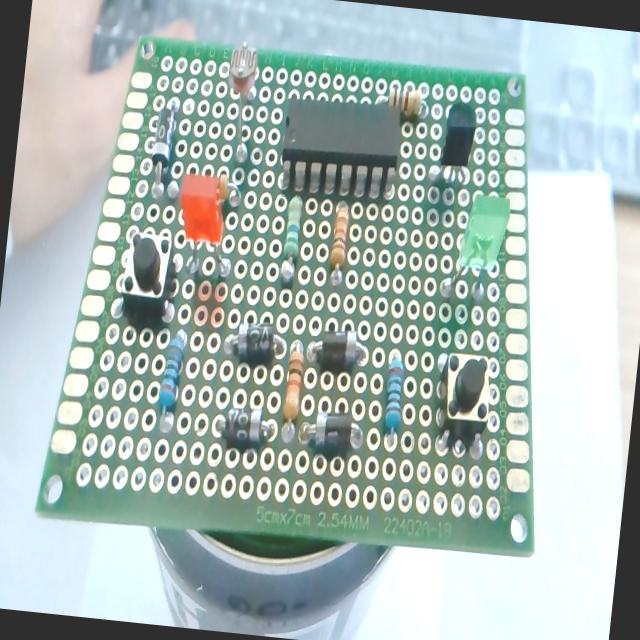IC: (274, 89, 404, 200)
cds: (219, 39, 262, 159)
diode: (148, 99, 184, 201), (222, 319, 288, 368), (306, 326, 370, 374), (300, 407, 364, 455), (216, 403, 276, 452)
led: (170, 166, 247, 297), (442, 189, 512, 308)
resistor: (278, 190, 355, 292), (156, 328, 188, 417), (279, 342, 306, 438), (326, 202, 352, 288), (381, 353, 406, 440), (280, 194, 304, 284), (386, 81, 426, 118)
switch: (117, 229, 180, 331), (433, 350, 494, 452)
transistor: (428, 100, 479, 192)
